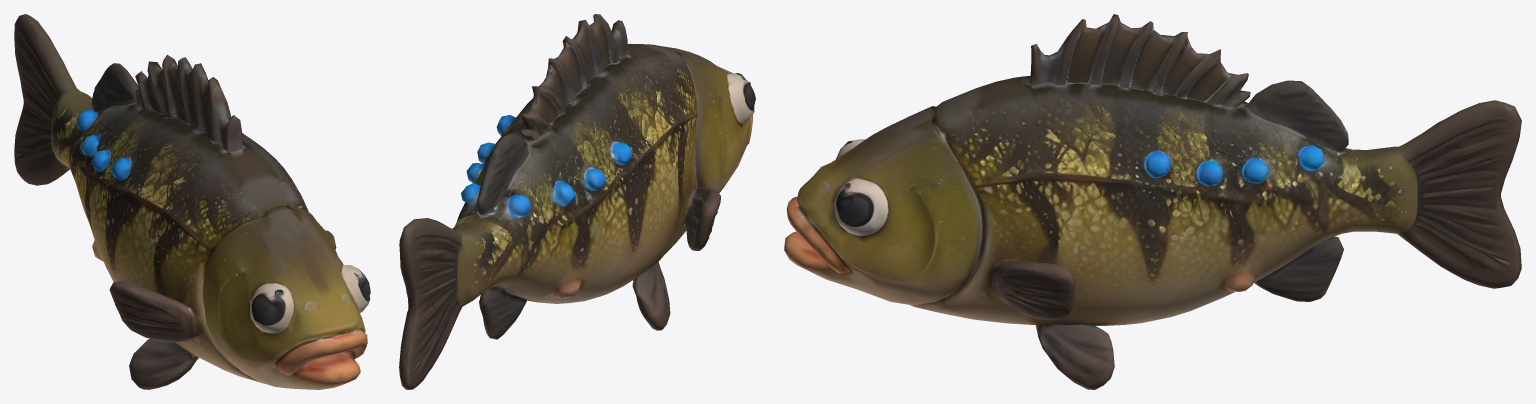
The model's file is kkeokji.glb.
The picture shows the model from 3 angles, left to right: view 1: azimuth 30°, elevation 25°; view 2: azimuth 150°, elevation 25°; view 3: azimuth 270°, elevation 25°; orthographic projection. The views are drawn at different scales.
Parts seen in each view (by area): view 1: tripo_node_30d614d3-2cb6-445b-949a-a538f7784acc; view 2: tripo_node_30d614d3-2cb6-445b-949a-a538f7784acc; view 3: tripo_node_30d614d3-2cb6-445b-949a-a538f7784acc.
Part boxes in pixels (x1,y1,x2,y2): tripo_node_30d614d3-2cb6-445b-949a-a538f7784acc: (14,14,370,389); tripo_node_30d614d3-2cb6-445b-949a-a538f7784acc: (399,14,755,389); tripo_node_30d614d3-2cb6-445b-949a-a538f7784acc: (784,14,1521,389).
Bounding box in the file's own units: 0.384 × 0.5047 × 0.9999.
Materials: 1 (1 with a texture image).
